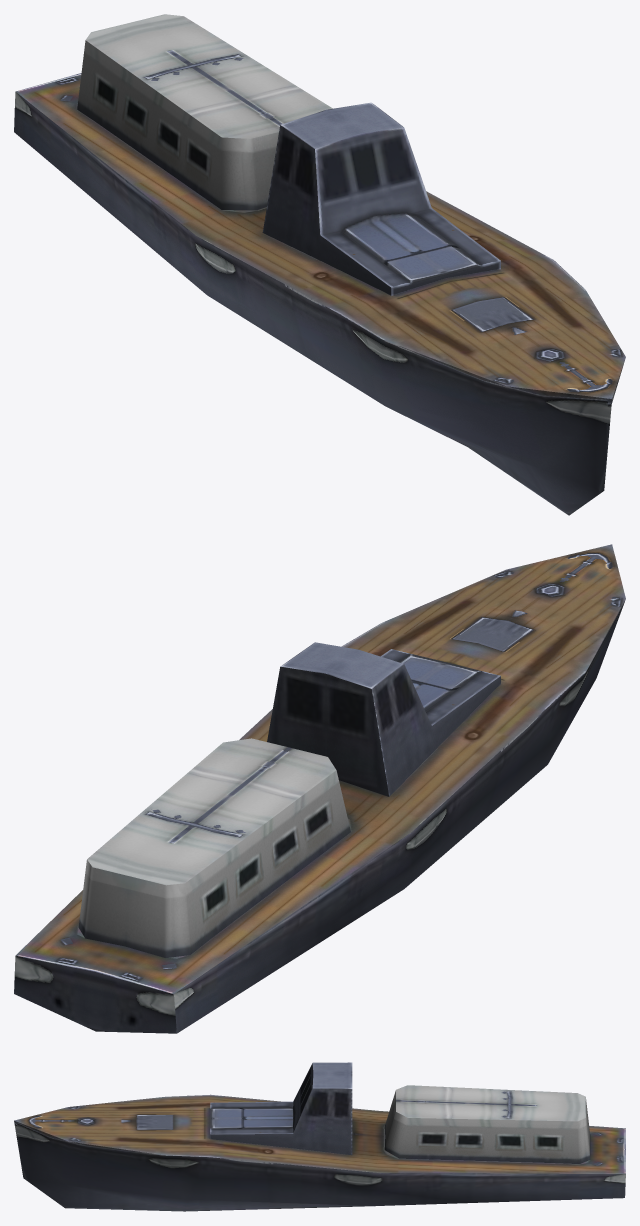
The model's file is Dhz_zsxiaochuan_01.FBX.
The picture shows the model from 3 angles, top to bottom: view 1: azimuth 30°, elevation 25°; view 2: azimuth 150°, elevation 25°; view 3: azimuth 270°, elevation 25°; orthographic projection. The views are drawn at different scales.
Parts seen in each view (by area): view 1: Dhz_zsxiaochuan_01; view 2: Dhz_zsxiaochuan_01; view 3: Dhz_zsxiaochuan_01.
Part boxes in pixels (x1,y1,x2,y2): Dhz_zsxiaochuan_01: (14, 14, 625, 515); Dhz_zsxiaochuan_01: (14, 544, 625, 1033); Dhz_zsxiaochuan_01: (14, 1062, 625, 1211).
Bounding box in the file's own units: 5 × 5.15 × 20.68.
